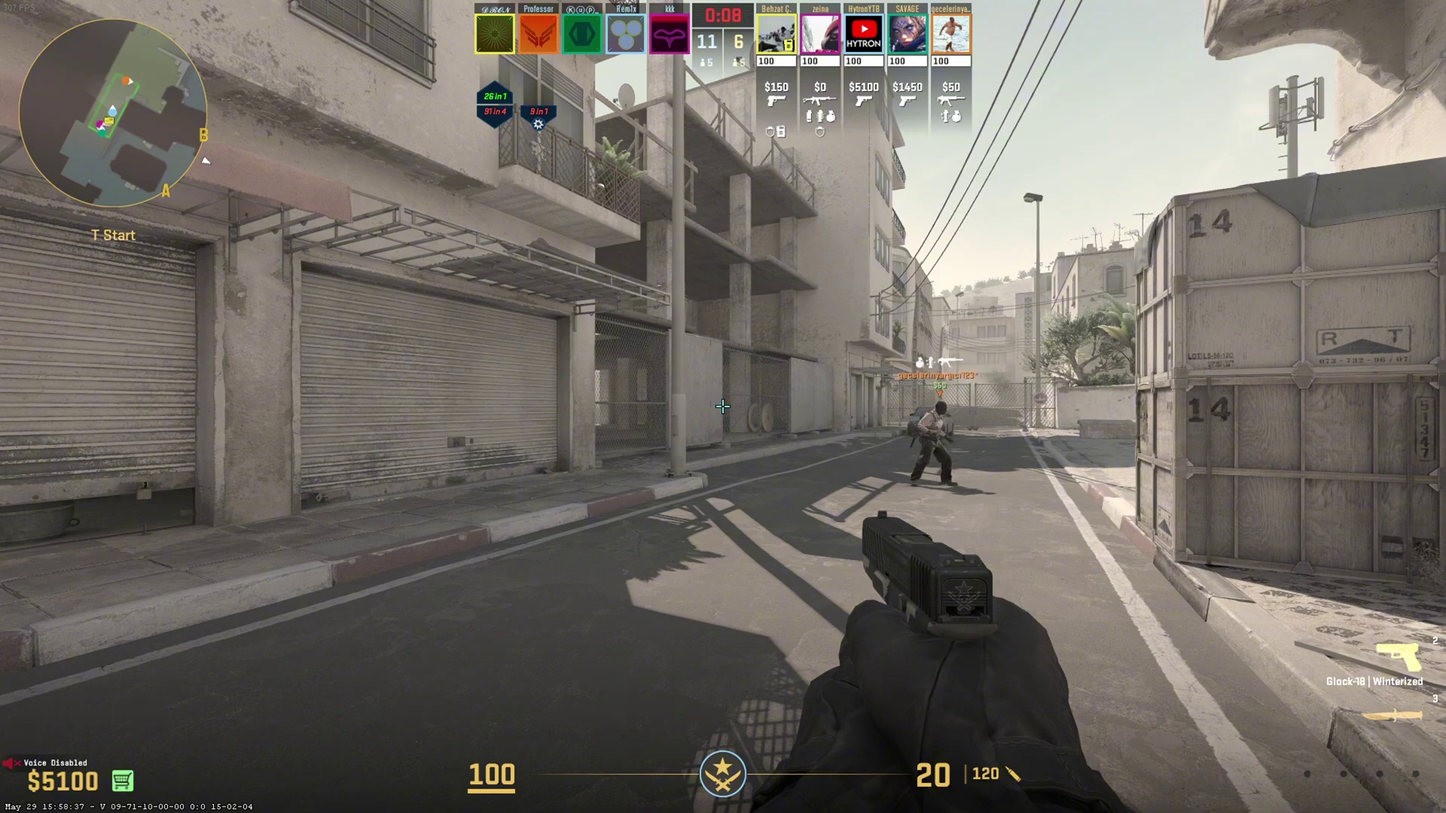Terrorist: (912, 401, 958, 486)
